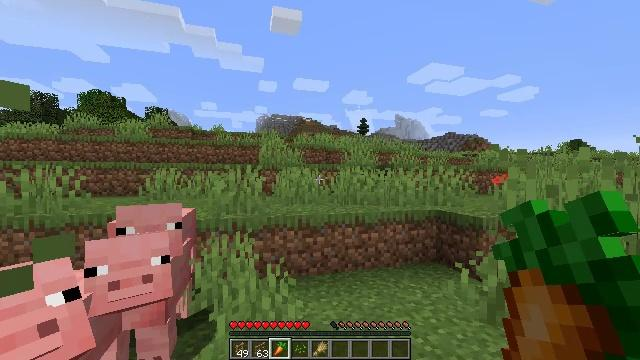pig: (85, 235, 194, 360), (0, 258, 96, 360), (108, 202, 196, 239)
